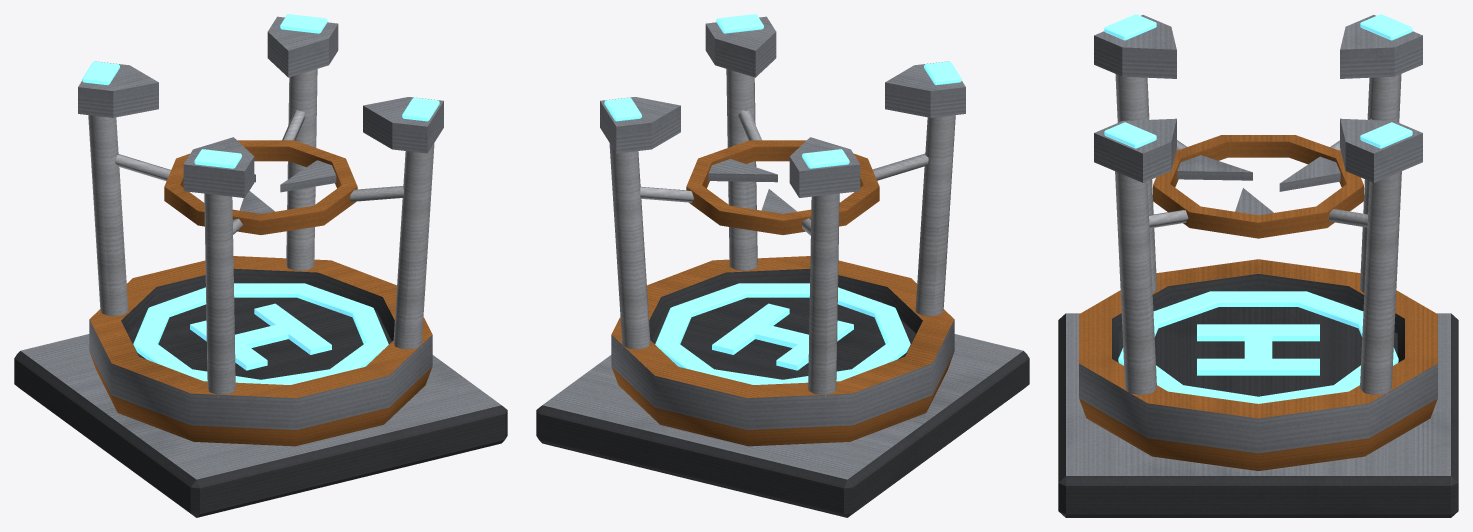
The model's file is R4X_FlyingDroneDeployer_LOD1.glb.
The picture shows the model from 3 angles, left to right: view 1: azimuth 30°, elevation 25°; view 2: azimuth 150°, elevation 25°; view 3: azimuth 270°, elevation 25°; orthographic projection. The views are drawn at different scales.
Parts seen in each view (by area): view 1: R4X_FlyingDroneDeployer_LOD1; view 2: R4X_FlyingDroneDeployer_LOD1; view 3: R4X_FlyingDroneDeployer_LOD1.
Part boxes in pixels (<box>): R4X_FlyingDroneDeployer_LOD1: <box>14,14,507,517</box>; R4X_FlyingDroneDeployer_LOD1: <box>536,14,1029,517</box>; R4X_FlyingDroneDeployer_LOD1: <box>1058,14,1458,517</box>.
Size of the model in its own units: 0.52 by 0.513 by 0.52.
5 materials, 4 textured.
